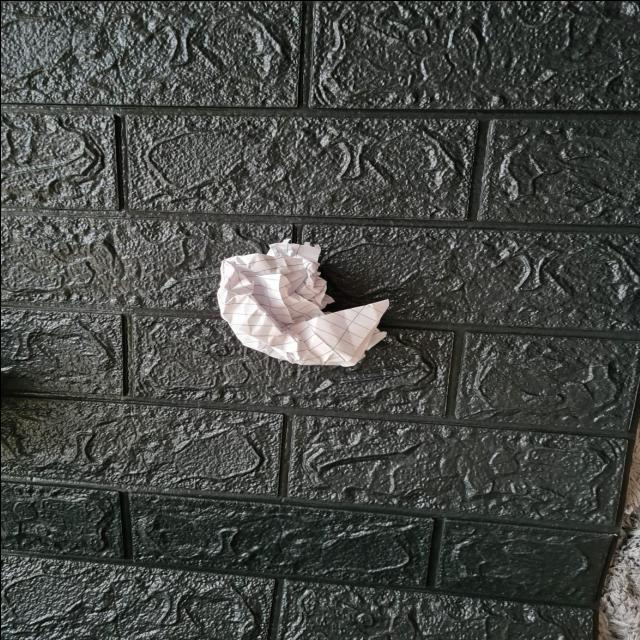kertas: (219, 244, 389, 366)
